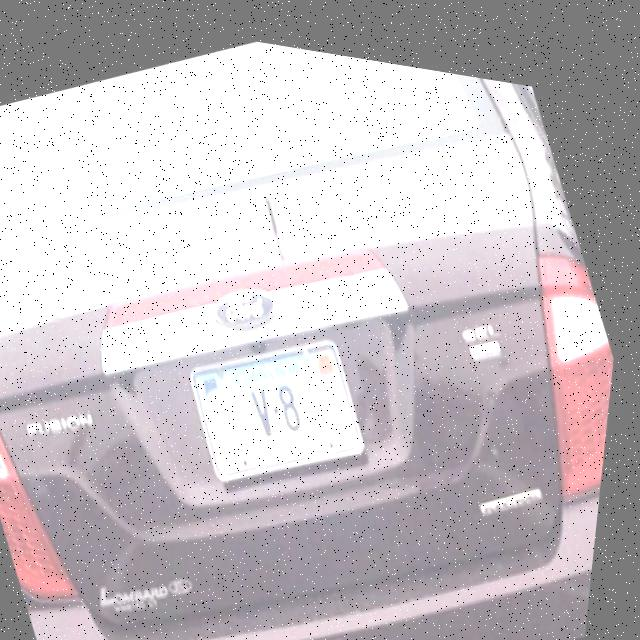license_plate: (186, 302, 375, 483)
